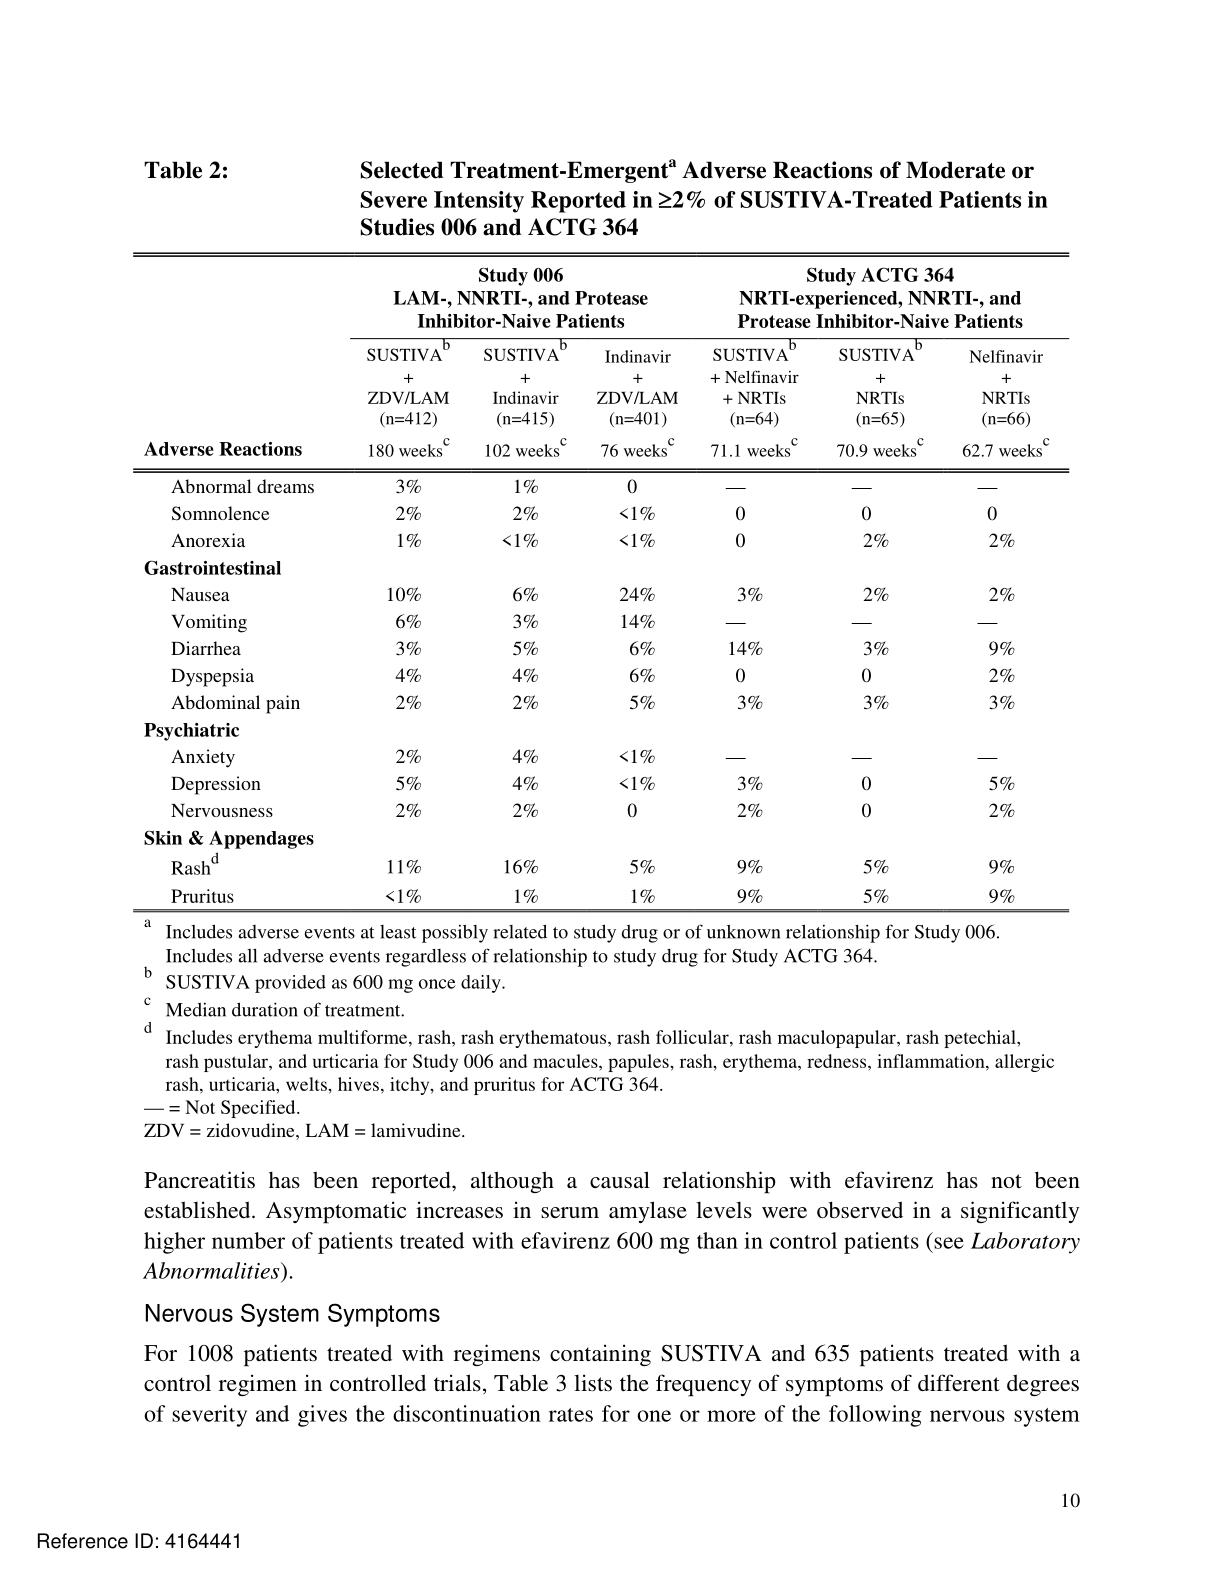partial_lined_merged_cells: (132, 251, 1070, 914)
